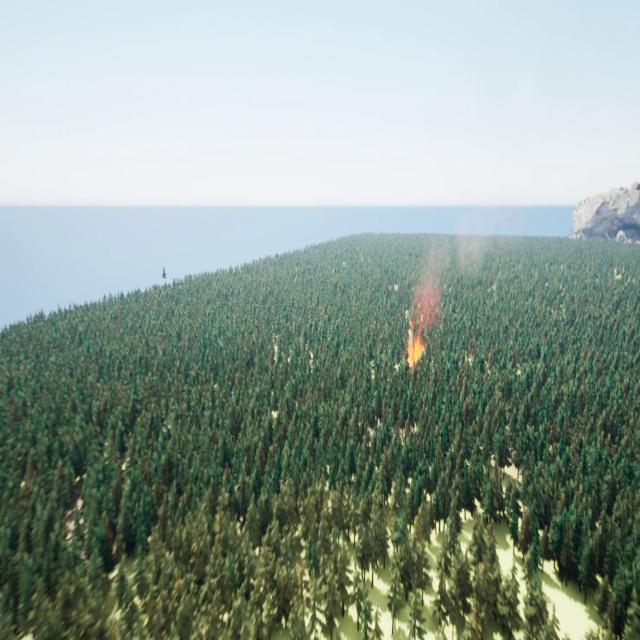fire: (408, 333, 423, 370)
smoke: (413, 250, 442, 328)
